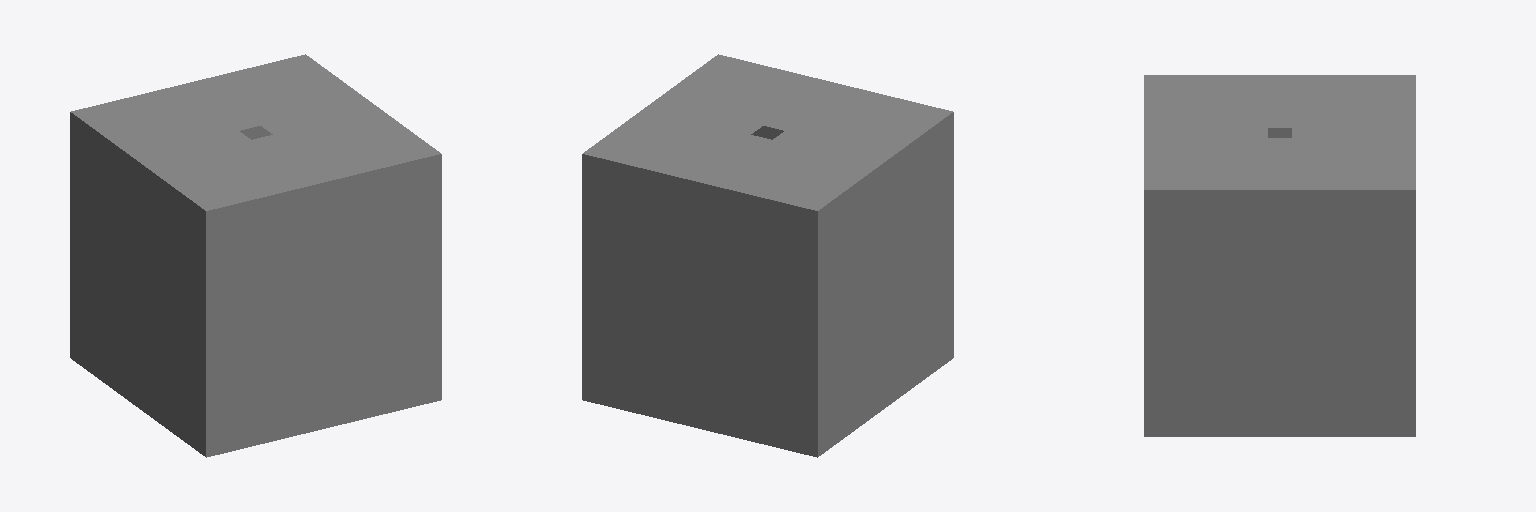
File: cornell.obj
The picture shows the model from 3 angles: view 1: azimuth 30°, elevation 25°; view 2: azimuth 150°, elevation 25°; view 3: azimuth 270°, elevation 25°; orthographic projection.
Parts seen in each view (by area): view 1: default, wall_red; view 2: default, wall_red; view 3: wall_green, default.
Boxes of the visible parts, x1,y1,x2,y2 form: default: [71, 54, 441, 457]; wall_red: [70, 112, 205, 456]; default: [582, 54, 952, 457]; wall_red: [818, 112, 953, 456]; wall_green: [1144, 190, 1415, 436]; default: [1144, 75, 1415, 189].
Size of the model in its own units: 550 by 550 by 550.